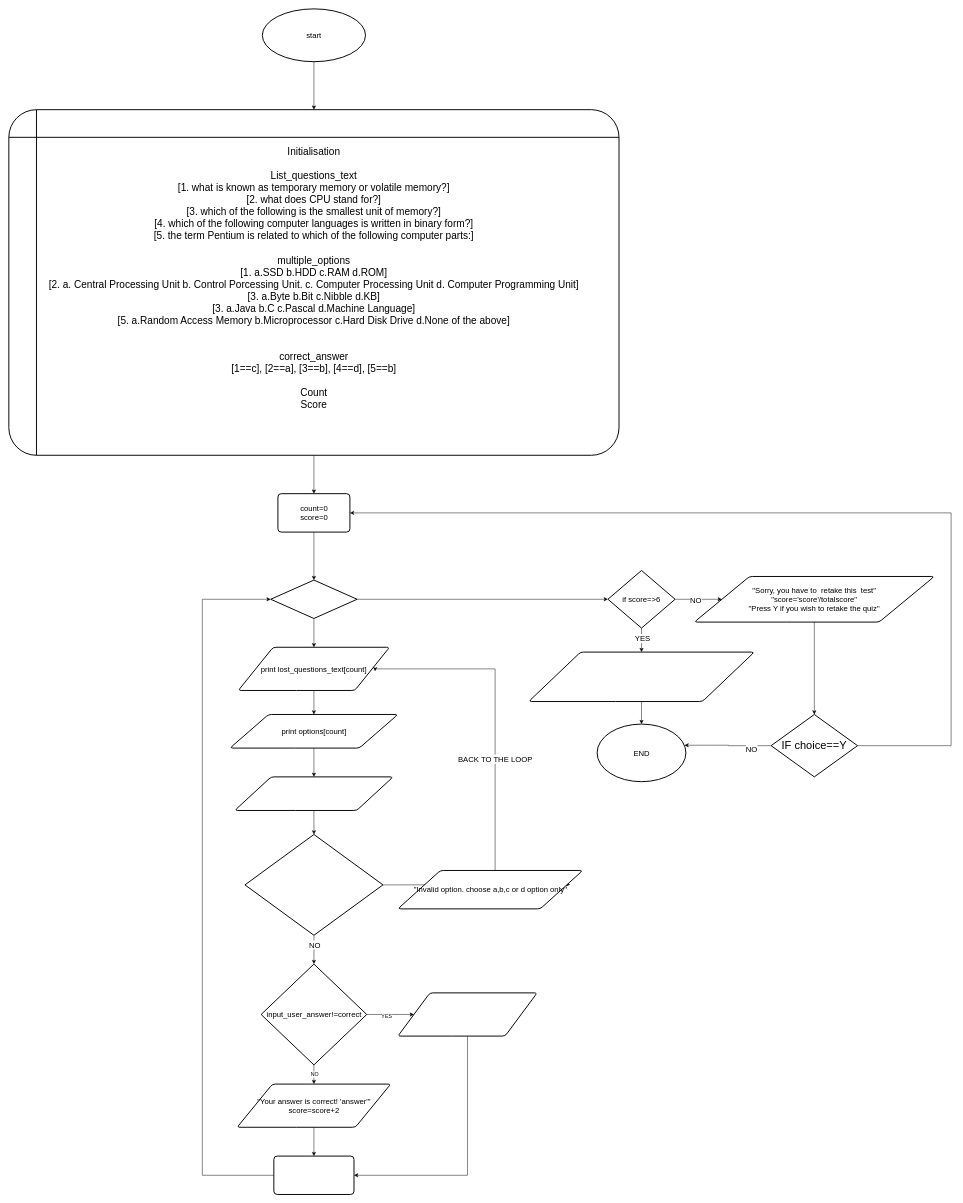
This 963x1203 diagram has some shape labels left out. Here are the shapes that lost their labels. From the top down, the centre of each, then its label:
the point at 313,599: count<5
the point at 641,676: "Congratulations ! you have qualified the test" "score='score'/totalscore"
the point at 313,793: inpput_user_option
the point at 313,885: IS input_user_option!=options
the point at 467,1014: "your answer is incorrect." no score added
the point at 313,1175: count = count + 1
